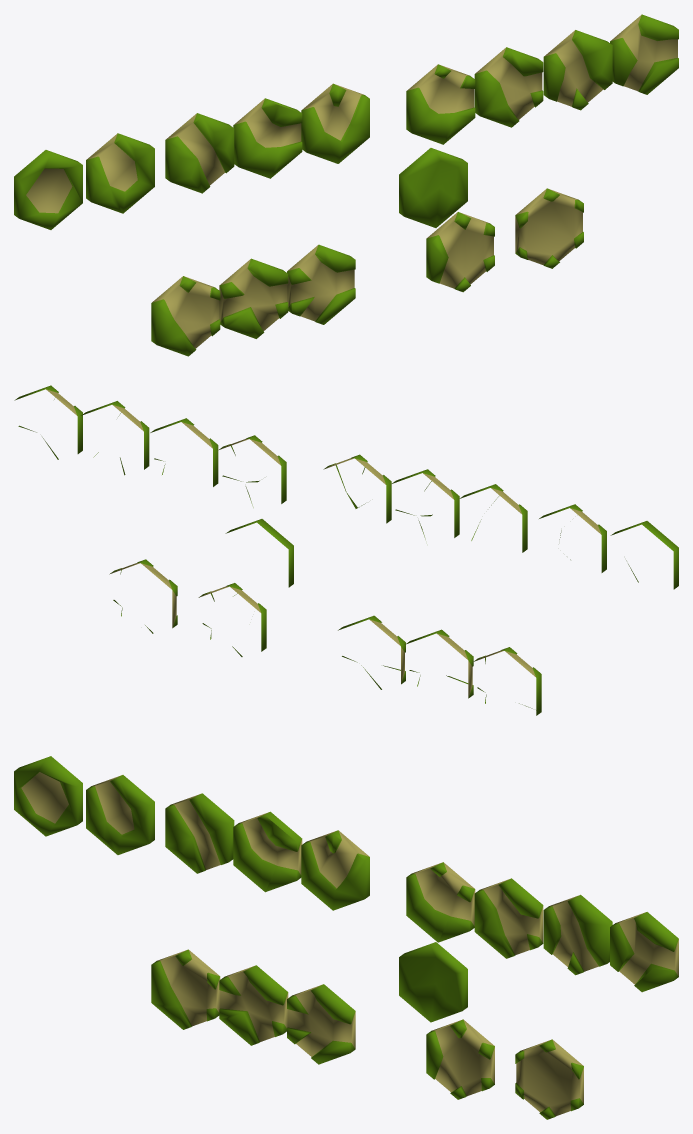
The model's file is Hex3.glb.
3 renders of one model, top to bottom at view 1: azimuth 30°, elevation 25°; view 2: azimuth 150°, elevation 25°; view 3: azimuth 330°, elevation 25°, orthographic.
Visible parts, largest first — view 1: Grass_T1, Grass_P1, Grass_T3, Grass_O1, Grass_E, Grass_N, Grass_Q1, Grass_P2, Grass_P3, Grass_T2, Grass_Q2, Grass_Q3 (+3 smaller); view 2: Grass_P3, Grass_P2, Grass_T1, Grass_T4, Grass_F, Grass_N, Grass_Q2, Grass_Q1, Grass_T3, Grass_P1, Grass_T2, Grass_Q3 (+3 smaller); view 3: Grass_T2, Grass_Q1, Grass_P2, Grass_T1, Grass_P3, Grass_E, Grass_P1, Grass_O1, Grass_N, Grass_T4, Grass_F, Grass_Q2 (+3 smaller).
Boxes of the visible parts, x1,y1,x2,y2 form: Grass_T1: (406, 64, 475, 144); Grass_P1: (165, 113, 234, 193); Grass_T3: (543, 30, 612, 110); Grass_O1: (399, 148, 467, 227); Grass_E: (86, 133, 154, 213); Grass_N: (14, 150, 82, 229); Grass_Q1: (151, 276, 220, 356); Grass_P2: (233, 98, 302, 178); Grass_P3: (301, 83, 369, 163); Grass_T2: (474, 47, 543, 127); Grass_Q2: (219, 258, 288, 338); Grass_Q3: (287, 244, 355, 324); Grass_P3: (323, 454, 391, 523); Grass_P2: (391, 469, 459, 539); Grass_T1: (219, 435, 286, 507); Grass_T4: (14, 385, 82, 459); Grass_F: (198, 583, 266, 656); Grass_N: (610, 521, 678, 589); Grass_Q2: (405, 629, 473, 698); Grass_Q1: (473, 647, 541, 715); Grass_T3: (81, 401, 149, 475); Grass_P1: (459, 484, 527, 552); Grass_T2: (150, 418, 218, 486); Grass_Q3: (338, 615, 405, 689); Grass_T2: (474, 878, 543, 958); Grass_Q1: (151, 949, 220, 1029); Grass_P2: (233, 811, 302, 892); Grass_T1: (406, 862, 475, 942); Grass_P3: (301, 830, 369, 910); Grass_E: (86, 775, 154, 854); Grass_P1: (165, 793, 234, 873); Grass_O1: (399, 942, 467, 1022); Grass_N: (14, 756, 82, 836); Grass_T4: (610, 912, 678, 992); Grass_F: (426, 1019, 494, 1099); Grass_Q2: (219, 965, 288, 1045).
Bounding box in the file's own units: 17.98 × 6.24 × 0.3283.
